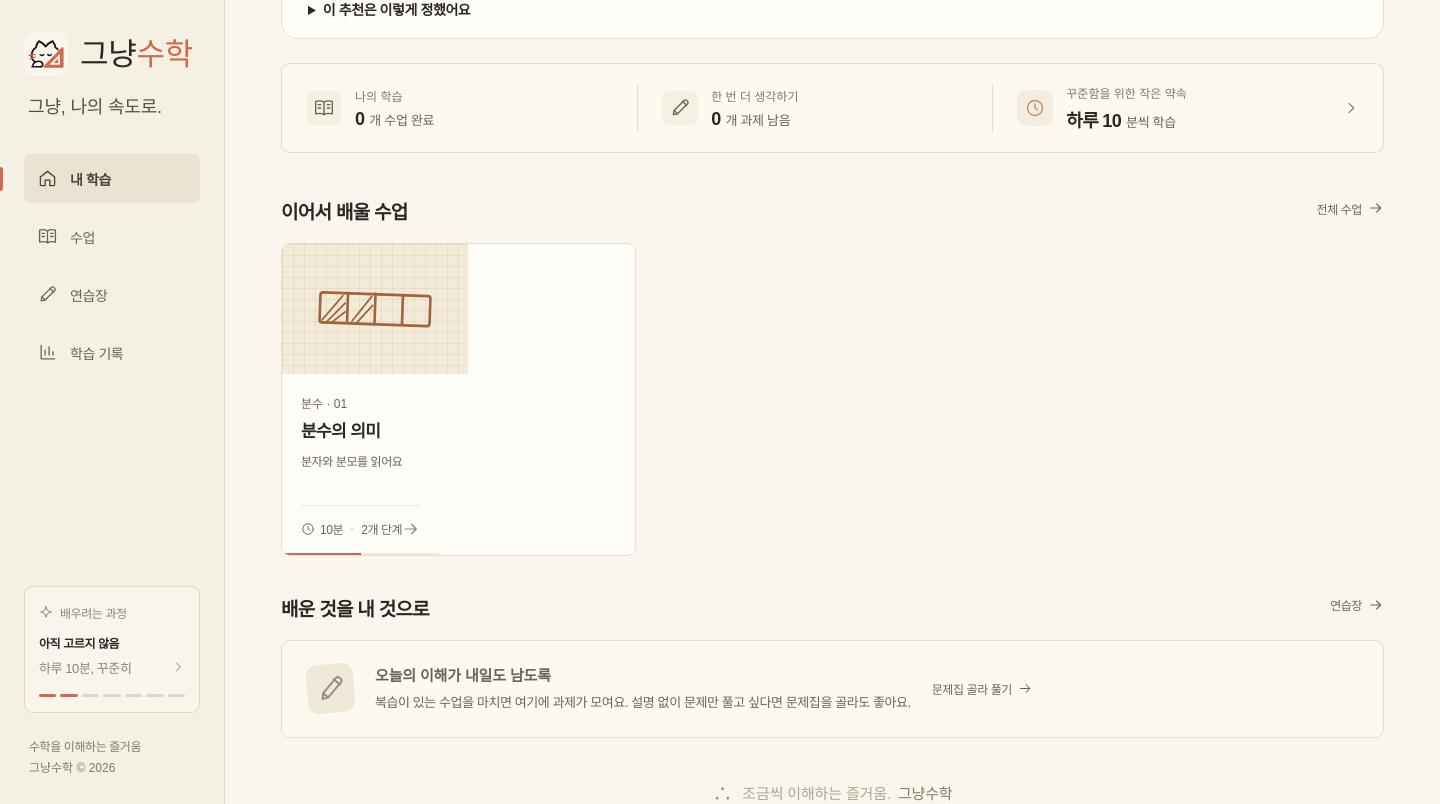
Test: a step is finished when the server says so › completes the lesson from the last step, in two steps of its own
The image size is (1440, 804).
(page scrolled)
Click the button "분수 · 01 분수의 의미 분자와 분모를 읽어요 10분 2개 단계": coordinates (375, 309) [281, 243, 636, 556]
Wait 1 ms
(page scrolled)
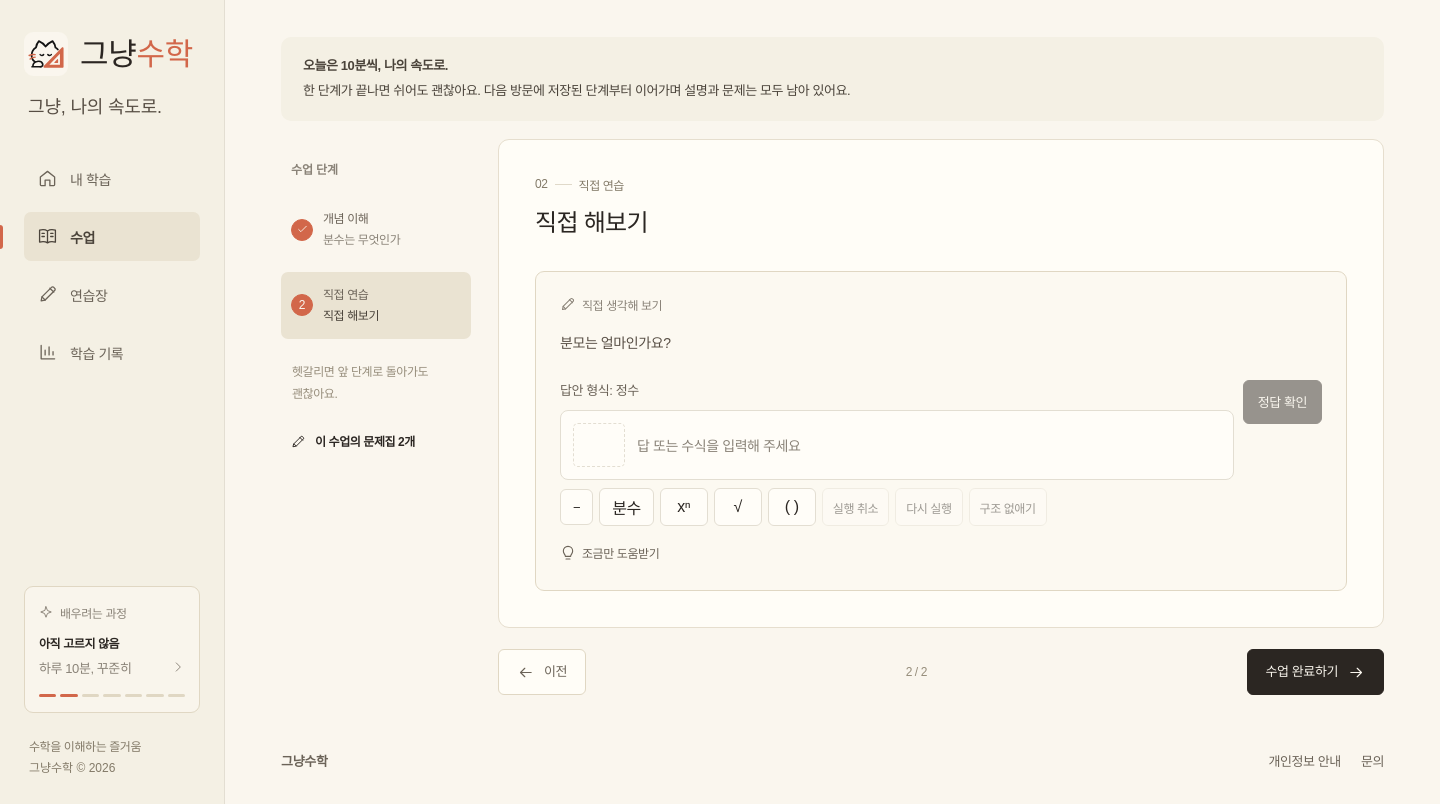
Click the button "수업 완료하기": coordinates (1315, 672) [1247, 650, 1384, 695]
(page scrolled)
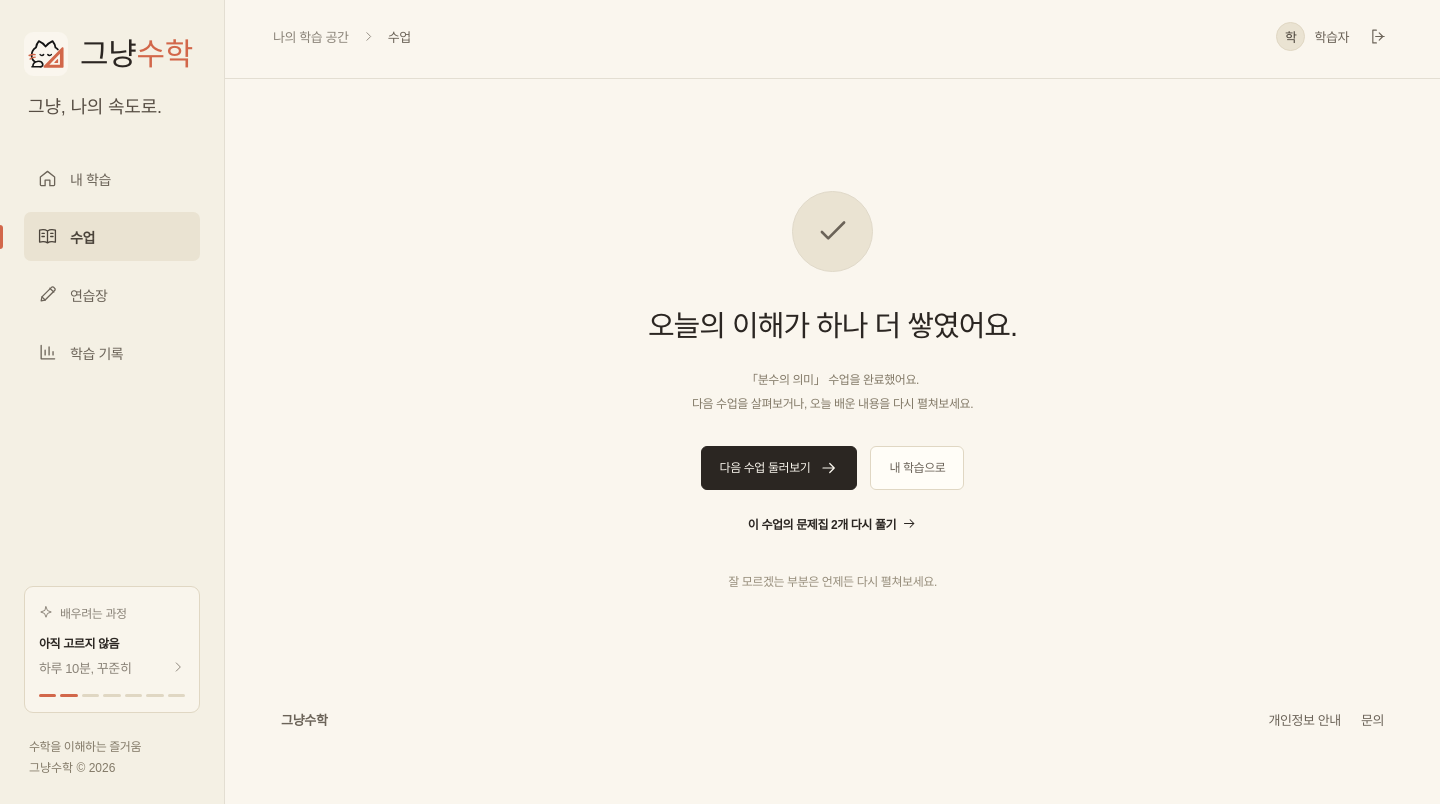
Expected: the heading "오늘의 이해가 하나 더 쌓였어요." is shown, [648, 310, 1017, 342]
